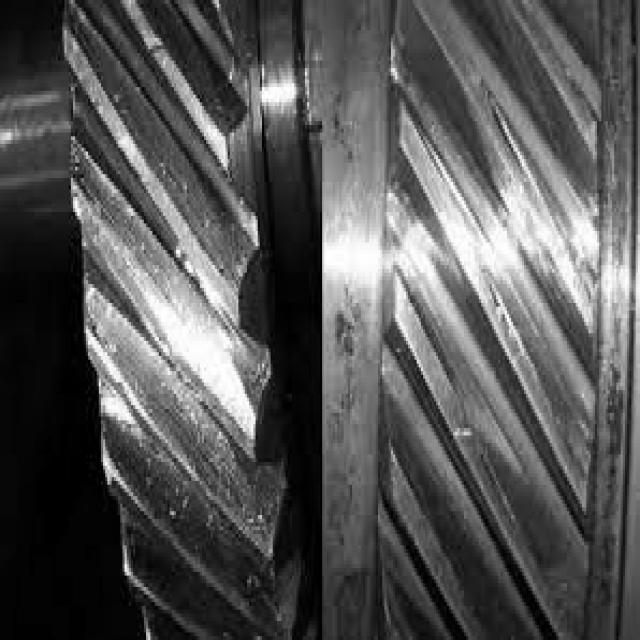Fault-Exist: (74, 125, 296, 554), (492, 47, 604, 266)
